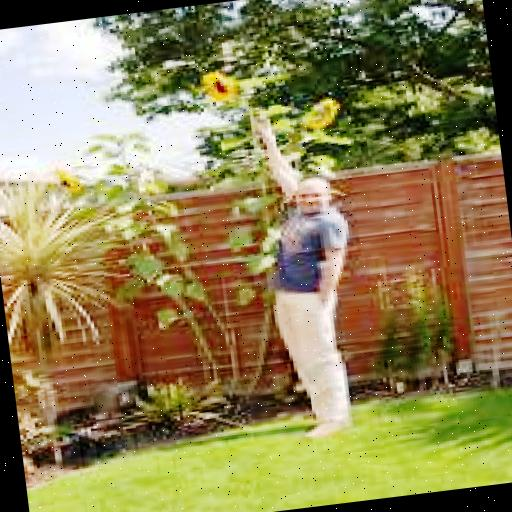sunflower: (199, 70, 232, 106)
